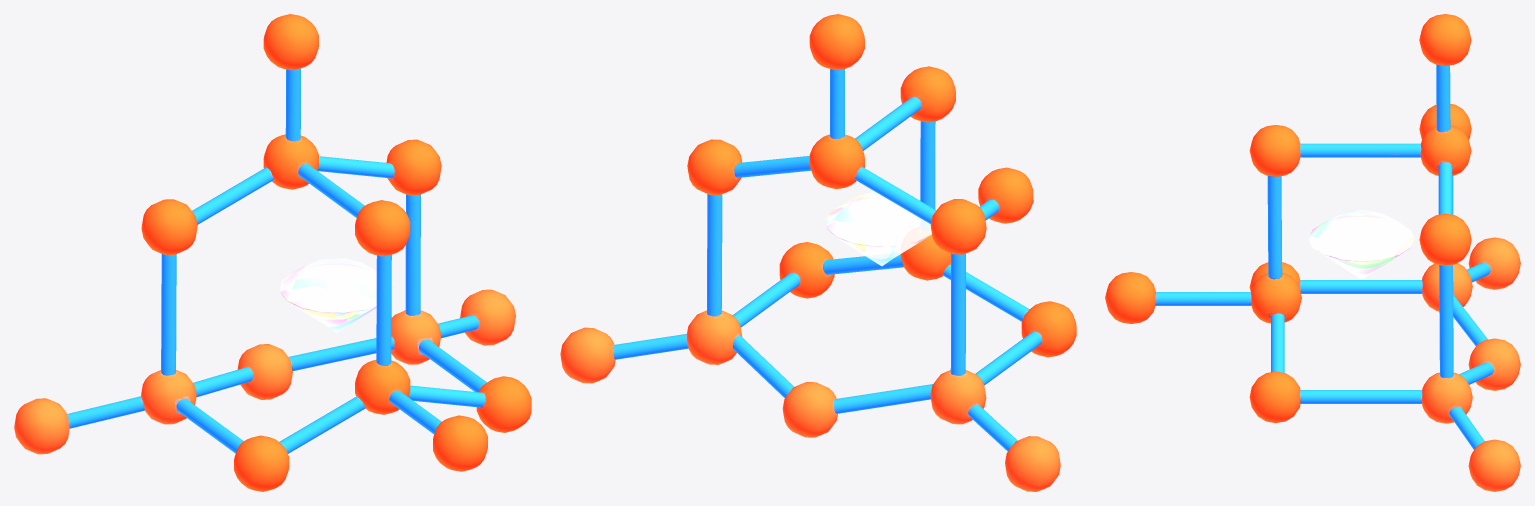
The picture shows the model from 3 angles, left to right: view 1: azimuth 30°, elevation 25°; view 2: azimuth 150°, elevation 25°; view 3: azimuth 270°, elevation 25°; orthographic projection. The views are drawn at different scales.
Visible parts, largest first — view 1: diamond, ThinRing1; view 2: diamond, ThinRing1; view 3: diamond, ThinRing1.
Boxes of the visible parts, x1=… form: diamond: x1=14, y1=14, x2=531, y2=491; ThinRing1: x1=280, y1=258, x2=393, y2=332; diamond: x1=560, y1=14, x2=1076, y2=491; ThinRing1: x1=825, y1=192, x2=931, y2=266; diamond: x1=1105, y1=14, x2=1520, y2=491; ThinRing1: x1=1308, y1=210, x2=1414, y2=279.
Bounding box in the file's own units: 4.18 × 3.23 × 3.28.
Materials: 2 (1 with a texture image).
